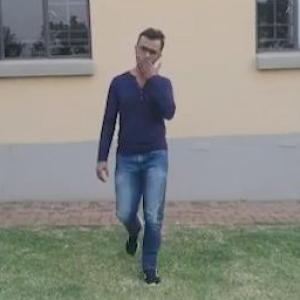follow: (110, 30, 181, 255)
